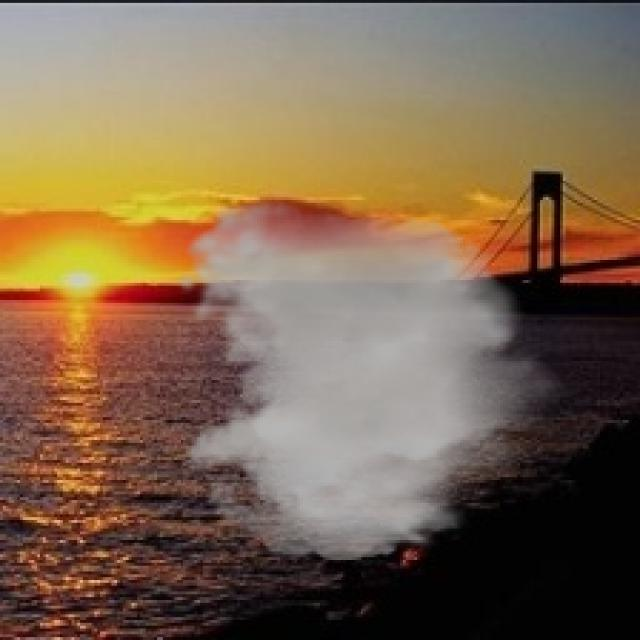Smoke: (174, 200, 572, 560)
